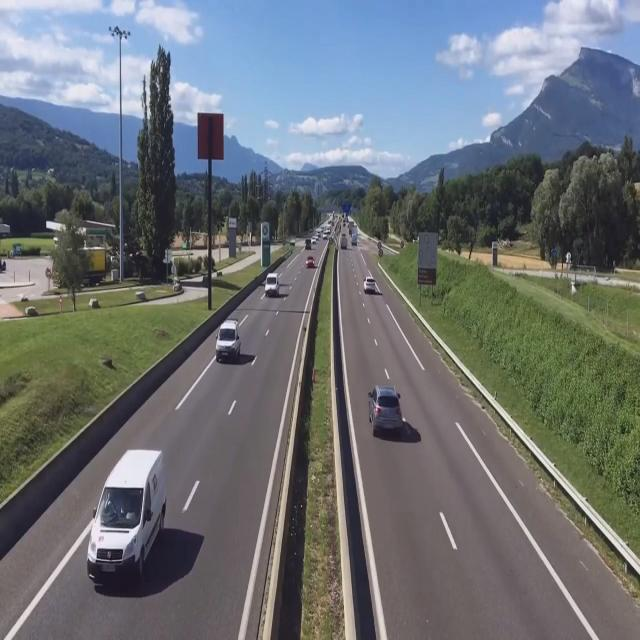car: (88, 446, 170, 593), (367, 386, 407, 443), (214, 321, 241, 363), (265, 272, 282, 298), (363, 276, 376, 295)
